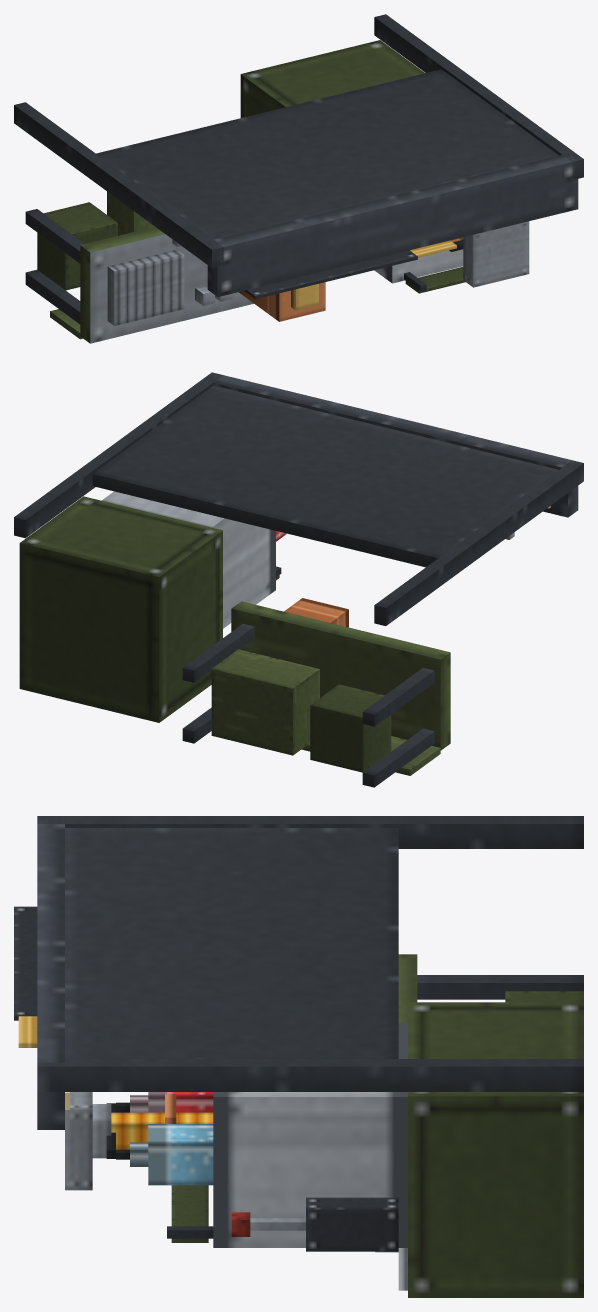
File: drink_mixer_mk2.obj
3 views of the same model, one above another, from view 1: azimuth 30°, elevation 25°; view 2: azimuth 150°, elevation 25°; view 3: azimuth 270°, elevation 25° (orthographic). The views are drawn at different scales.
Parts seen in each view (by area): view 1: drink_mixer_mk2_Pegboard, drink_mixer_mk2_Canopy, drink_mixer_mk2_Tank_cabinet, drink_mixer_mk2_Counter_top, drink_mixer_mk2_Wall_post_0, drink_mixer_mk2_Tray_stack, drink_mixer_mk2_Wall_post_1, drink_mixer_mk2_Funnel, drink_mixer_mk2_Water_can, drink_mixer_mk2_Leg, drink_mixer_mk2_Sign, drink_mixer_mk2_Tank (+5 smaller); view 2: drink_mixer_mk2_Pegboard, drink_mixer_mk2_Tank_cabinet, drink_mixer_mk2_Counter_top, drink_mixer_mk2_Cocoa_crate, drink_mixer_mk2_Wall_post_0, drink_mixer_mk2_Tank, drink_mixer_mk2_Leg, drink_mixer_mk2_Water_can, drink_mixer_mk2_Canopy, drink_mixer_mk2_Wall_post_1, drink_mixer_mk2_Coffee_urn, drink_mixer_mk2_Skirt; view 3: drink_mixer_mk2_Pegboard, drink_mixer_mk2_Tank_cabinet, drink_mixer_mk2_Tank, drink_mixer_mk2_Wall_post_1, drink_mixer_mk2_Wall_post_0, drink_mixer_mk2_Canopy, drink_mixer_mk2_Pump_body, drink_mixer_mk2_Bottle_1, drink_mixer_mk2_Leg, drink_mixer_mk2_Funnel, drink_mixer_mk2_Sign, drink_mixer_mk2_Blaze_rod (+8 smaller).
Part boxes in pixels (x1=…): drink_mixer_mk2_Pegboard: x1=96, y1=69, x2=558, y2=239; drink_mixer_mk2_Canopy: x1=207, y1=154, x2=578, y2=296; drink_mixer_mk2_Tank_cabinet: x1=240, y1=40, x2=424, y2=117; drink_mixer_mk2_Counter_top: x1=80, y1=227, x2=253, y2=343; drink_mixer_mk2_Wall_post_0: x1=14, y1=102, x2=223, y2=267; drink_mixer_mk2_Tray_stack: x1=107, y1=249, x2=184, y2=325; drink_mixer_mk2_Wall_post_1: x1=374, y1=14, x2=583, y2=179; drink_mixer_mk2_Funnel: x1=463, y1=221, x2=529, y2=287; drink_mixer_mk2_Water_can: x1=37, y1=202, x2=117, y2=290; drink_mixer_mk2_Leg: x1=25, y1=209, x2=84, y2=324; drink_mixer_mk2_Sign: x1=244, y1=250, x2=417, y2=299; drink_mixer_mk2_Tank: x1=374, y1=249, x2=463, y2=283; drink_mixer_mk2_Pegboard: x1=92, y1=385, x2=558, y2=567; drink_mixer_mk2_Tank_cabinet: x1=19, y1=496, x2=222, y2=722; drink_mixer_mk2_Counter_top: x1=231, y1=601, x2=450, y2=750; drink_mixer_mk2_Cocoa_crate: x1=211, y1=649, x2=319, y2=755; drink_mixer_mk2_Wall_post_0: x1=374, y1=460, x2=583, y2=625; drink_mixer_mk2_Tank: x1=102, y1=491, x2=275, y2=628; drink_mixer_mk2_Leg: x1=182, y1=623, x2=434, y2=787; drink_mixer_mk2_Water_can: x1=310, y1=684, x2=391, y2=772; drink_mixer_mk2_Canopy: x1=209, y1=374, x2=578, y2=517; drink_mixer_mk2_Wall_post_1: x1=14, y1=372, x2=223, y2=538; drink_mixer_mk2_Coffee_urn: x1=284, y1=598, x2=348, y2=627; drink_mixer_mk2_Skirt: x1=301, y1=736, x2=440, y2=775; drink_mixer_mk2_Pegboard: x1=65, y1=828, x2=398, y2=1058; drink_mixer_mk2_Tank_cabinet: x1=408, y1=1002, x2=583, y2=1297; drink_mixer_mk2_Tank: x1=213, y1=1022, x2=407, y2=1247; drink_mixer_mk2_Wall_post_1: x1=37, y1=1059, x2=583, y2=1091; drink_mixer_mk2_Wall_post_0: x1=37, y1=816, x2=583, y2=848; drink_mixer_mk2_Canopy: x1=37, y1=820, x2=64, y2=1129; drink_mixer_mk2_Pump_body: x1=306, y1=1197, x2=398, y2=1251; drink_mixer_mk2_Bottle_1: x1=148, y1=1124, x2=213, y2=1185; drink_mixer_mk2_Leg: x1=417, y1=975, x2=583, y2=999; drink_mixer_mk2_Funnel: x1=65, y1=1092, x2=92, y2=1190; drink_mixer_mk2_Sign: x1=14, y1=906, x2=37, y2=1020; drink_mixer_mk2_Blaze_rod: x1=111, y1=1112, x2=213, y2=1149.
Bounding box in the file's own units: 2 × 0.9844 × 1.92.
